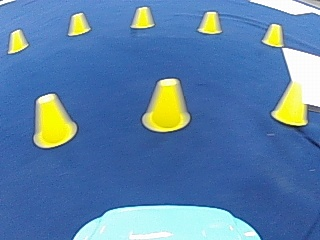cone: (142, 77, 189, 132), (32, 92, 76, 148), (271, 78, 308, 125), (197, 10, 222, 34), (130, 6, 155, 29), (67, 12, 90, 36), (7, 28, 28, 53), (261, 23, 283, 46)
